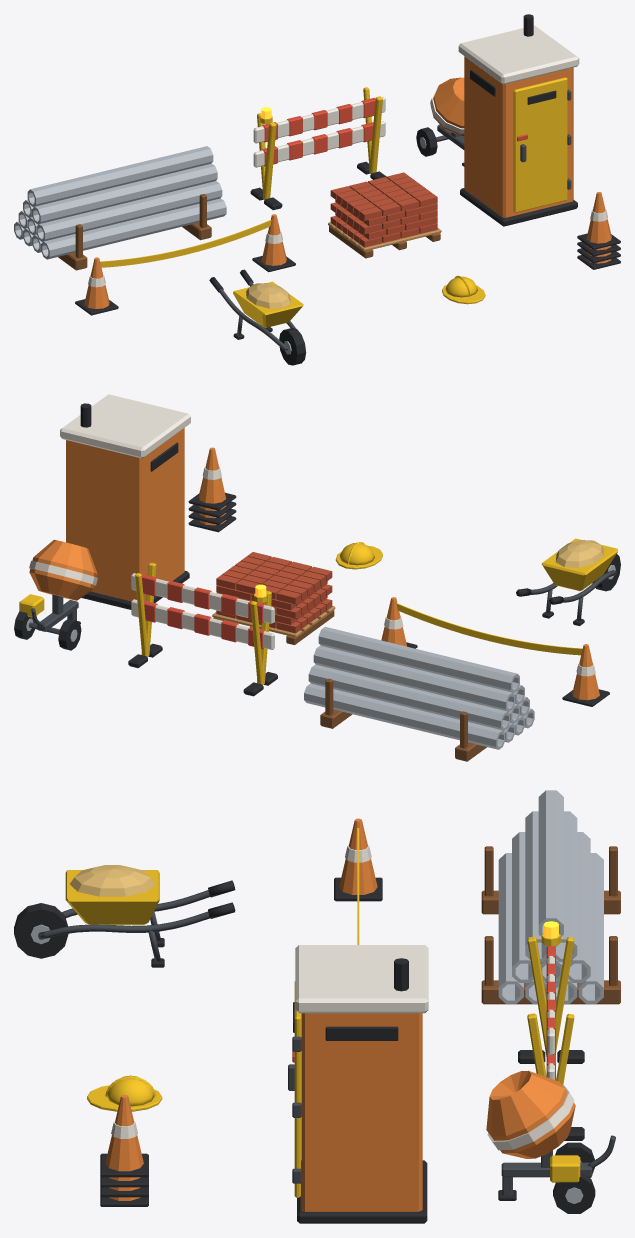
Rendered from construction-site-props.glb.
3 renders of one model, top to bottom at view 1: azimuth 30°, elevation 25°; view 2: azimuth 150°, elevation 25°; view 3: azimuth 270°, elevation 25°, orthographic. The views are drawn at different scales.
Visible parts, largest first — view 1: Pipes, Toilet_Body, Door, Bricks, Toilet_Roof, Drum, Wheelbarrow_Tray, Caution_Tape, Barrier_Board_1, Toilet_Base, Barrier_Board_0, Wheelbarrow_Sand (+7 smaller); view 2: Pipes, Toilet_Body, Bricks, Toilet_Roof, Drum, Wheelbarrow_Tray, Caution_Tape, Barrier_Board_1, Barrier_Board_0, Wheelbarrow_Sand, ConeStack_3_Body, TapeCone_L_Body (+7 smaller); view 3: Toilet_Body, Pipes, Toilet_Roof, Drum, Wheelbarrow_Tray, Wheelbarrow_Sand, Wheel, Toilet_Base, ConeStack_3_Body, TapeCone_L_Body, Wheelbarrow_Handle_R, Toilet_Vent_R (+15 smaller).
Part boxes in pixels (box(x1,y1,x2,y2)): Pipes: box(14, 146, 226, 259); Toilet_Body: box(464, 56, 573, 217); Door: box(513, 77, 567, 212); Bricks: box(330, 172, 437, 247); Toilet_Roof: box(458, 25, 579, 84); Drum: box(430, 77, 464, 134); Wheelbarrow_Tray: box(233, 281, 303, 327); Caution_Tape: box(100, 220, 271, 267); Barrier_Board_1: box(253, 121, 385, 167); Toilet_Base: box(460, 188, 577, 226); Barrier_Board_0: box(253, 96, 385, 143); Wheelbarrow_Sand: box(246, 283, 290, 308); Pipes: box(304, 626, 534, 749); Toilet_Body: box(66, 428, 184, 600); Bricks: box(216, 552, 332, 633); Toilet_Roof: box(60, 394, 190, 458); Drum: box(29, 539, 97, 600); Wheelbarrow_Tray: box(541, 538, 618, 591); Caution_Tape: box(396, 603, 582, 655); Barrier_Board_1: box(131, 599, 274, 649); Barrier_Board_0: box(131, 573, 274, 623); Wheelbarrow_Sand: box(555, 540, 604, 567); ConeStack_3_Body: box(198, 447, 226, 503); TapeCone_L_Body: box(572, 644, 599, 700); Toilet_Body: box(301, 1013, 422, 1211); Pipes: box(498, 790, 603, 1003); Toilet_Roof: box(295, 945, 428, 1013); Drum: box(486, 1070, 575, 1158); Wheelbarrow_Tray: box(65, 870, 159, 924); Wheelbarrow_Sand: box(70, 865, 154, 896); Wheel: box(14, 903, 68, 958); Toilet_Base: box(297, 1160, 427, 1223); ConeStack_3_Body: box(105, 1095, 143, 1171); TapeCone_L_Body: box(339, 818, 377, 894); Wheelbarrow_Handle_R: box(40, 911, 209, 939); Toilet_Vent_R: box(325, 1026, 398, 1040).
Bounding box in the file's own units: 26.88 × 9.2 × 20.02.
